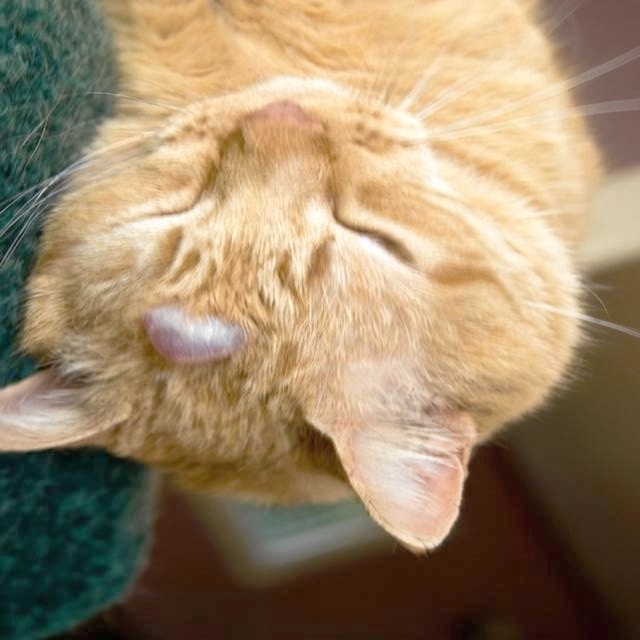lump_and_bump: (137, 311, 243, 362)
